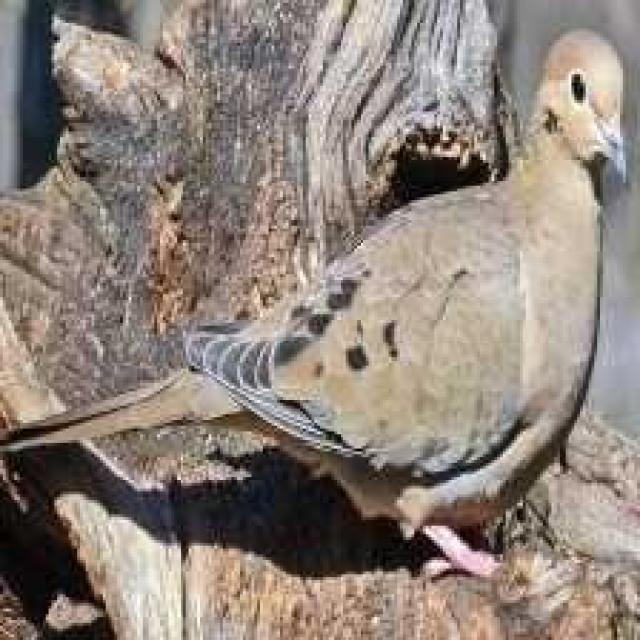dove: (5, 28, 640, 602)
